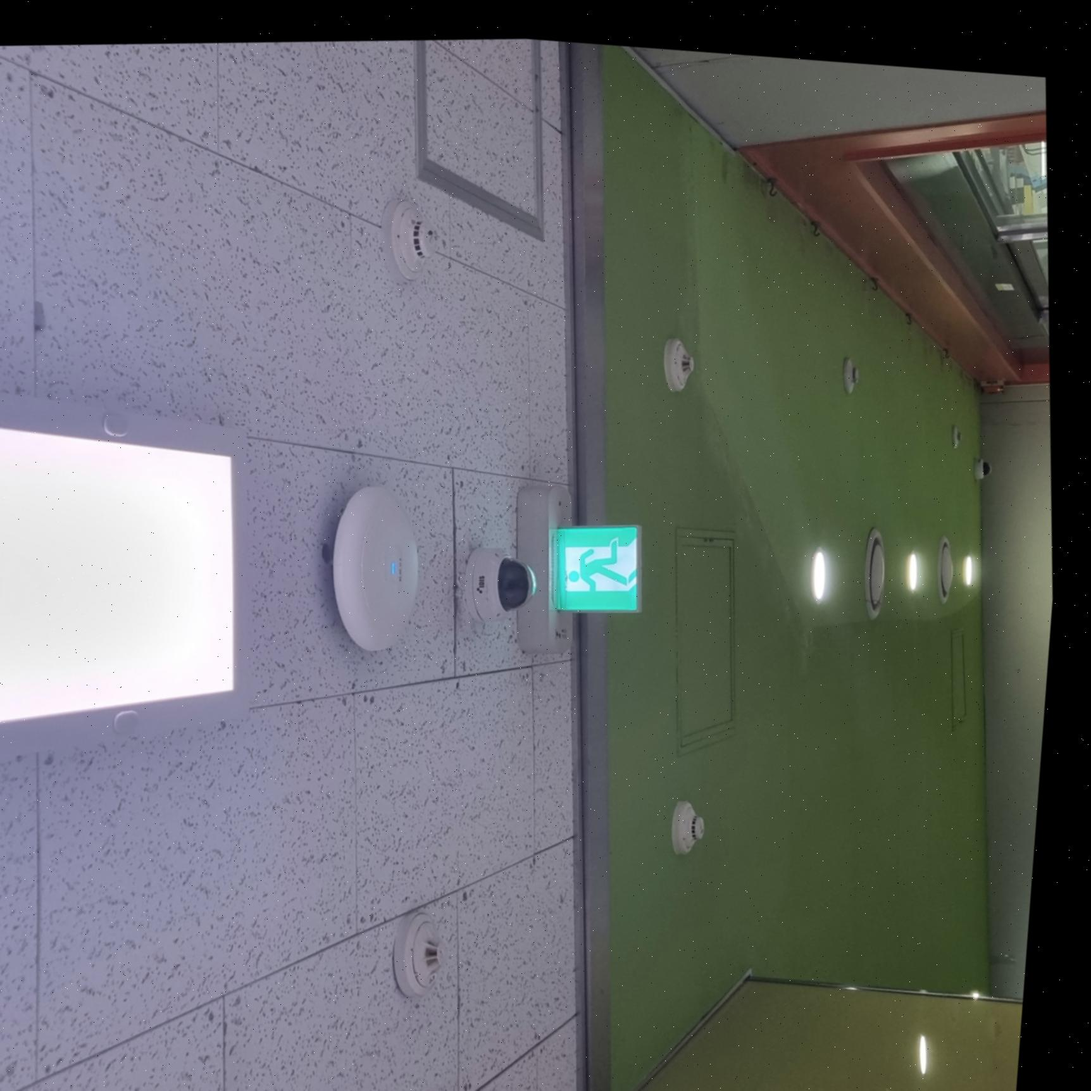emergency_exit: (551, 523, 641, 614)
